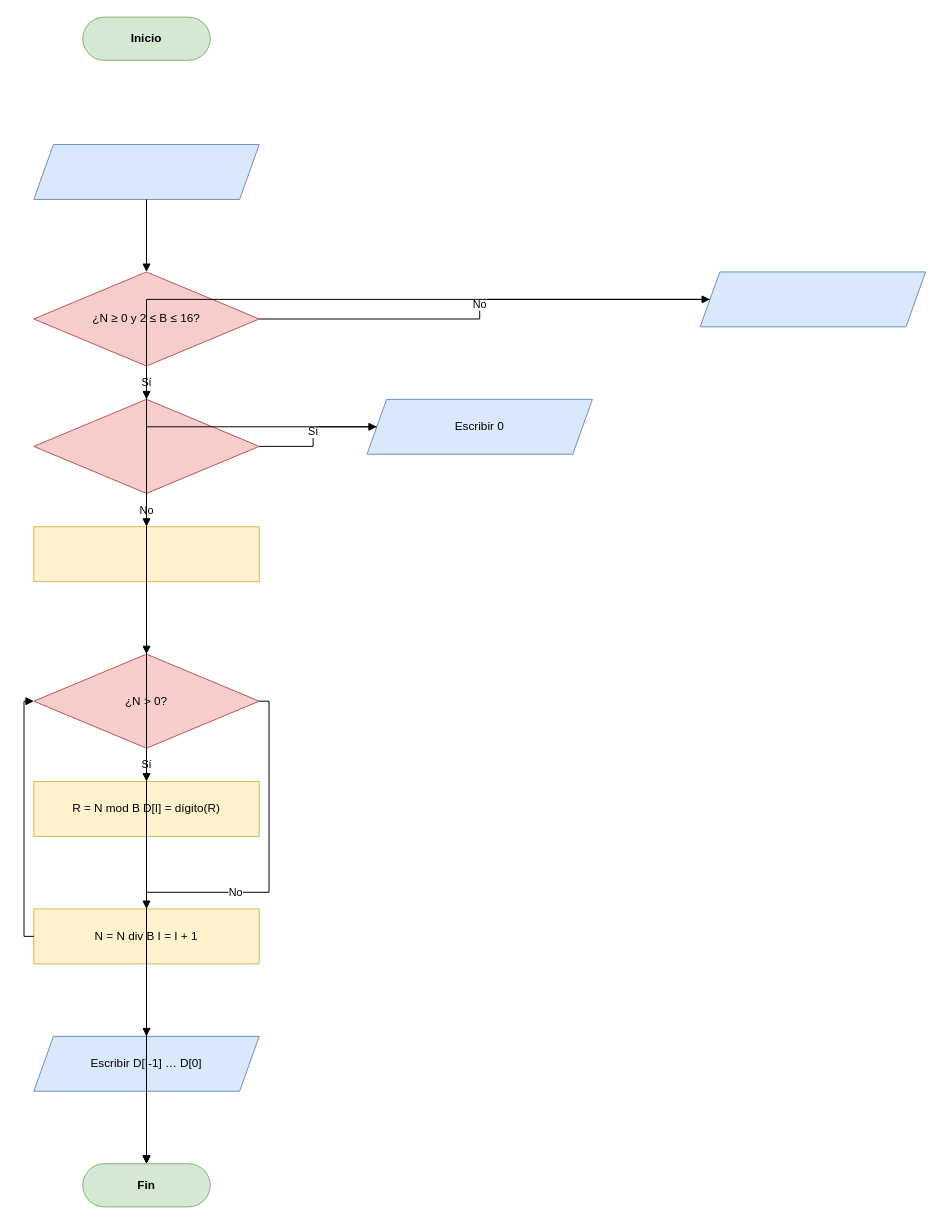
This 943x1224 diagram has some shape labels left out. Each missing label, with the box of its shape:
Escribir: datos inválidos: (699, 271, 926, 327)
I = 0: (33, 526, 259, 582)
Leer N, B: (33, 144, 259, 199)
¿N = 0?: (33, 398, 259, 493)
